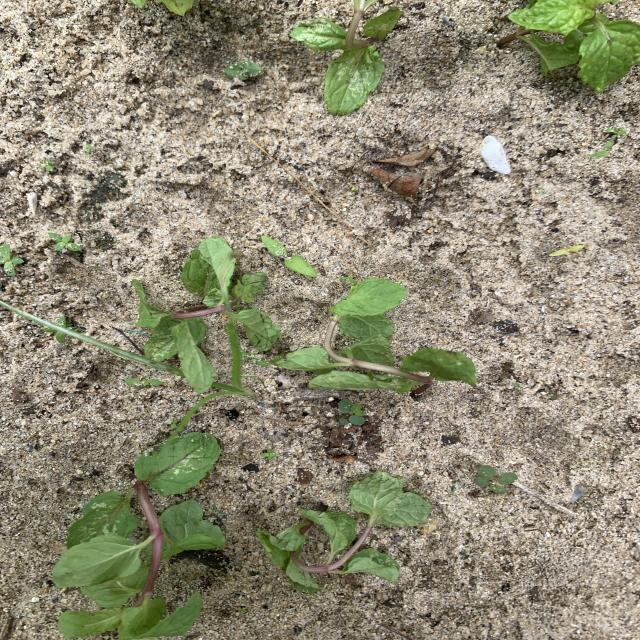crop: (53, 431, 224, 638), (272, 278, 474, 393), (136, 237, 279, 390), (257, 472, 431, 592), (291, 0, 400, 115), (501, 1, 639, 91), (156, 1, 192, 13)
weed: (1, 301, 182, 375), (220, 319, 251, 395), (262, 235, 315, 275), (475, 464, 517, 494), (590, 131, 622, 155), (225, 60, 263, 80), (0, 245, 23, 275), (338, 400, 366, 424), (48, 232, 82, 251), (549, 246, 584, 255), (125, 378, 163, 386), (39, 159, 53, 171), (261, 449, 277, 459), (536, 187, 547, 195)
